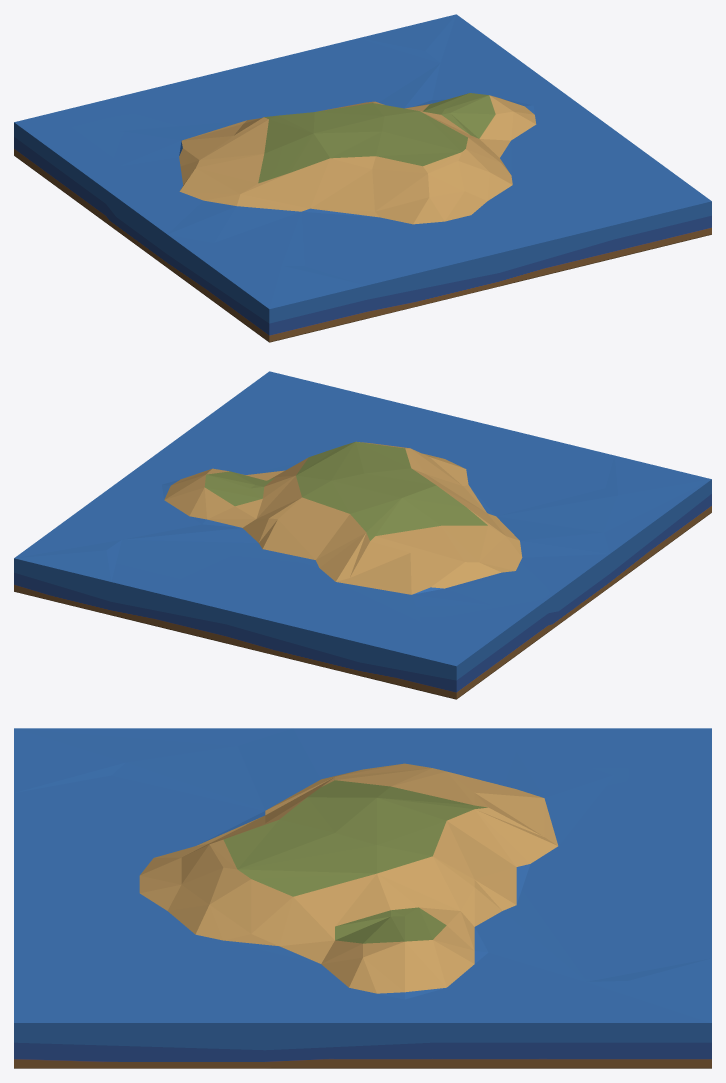
Rendered from SM_Tile_Cube_Island_02.glb.
3 views of the same model, one above another, from view 1: azimuth 30°, elevation 25°; view 2: azimuth 150°, elevation 25°; view 3: azimuth 270°, elevation 25° (orthographic). The views are drawn at different scales.
Parts seen in each view (by area): view 1: SM_Tile_Cube_Island_02; view 2: SM_Tile_Cube_Island_02; view 3: SM_Tile_Cube_Island_02.
Boxes of the visible parts, x1,y1,x2,y2 form: SM_Tile_Cube_Island_02: (14, 14, 711, 342); SM_Tile_Cube_Island_02: (14, 371, 711, 699); SM_Tile_Cube_Island_02: (14, 728, 711, 1068).
Bounding box in the file's own units: 5 × 0.7454 × 5.
1 material, 1 textured.
